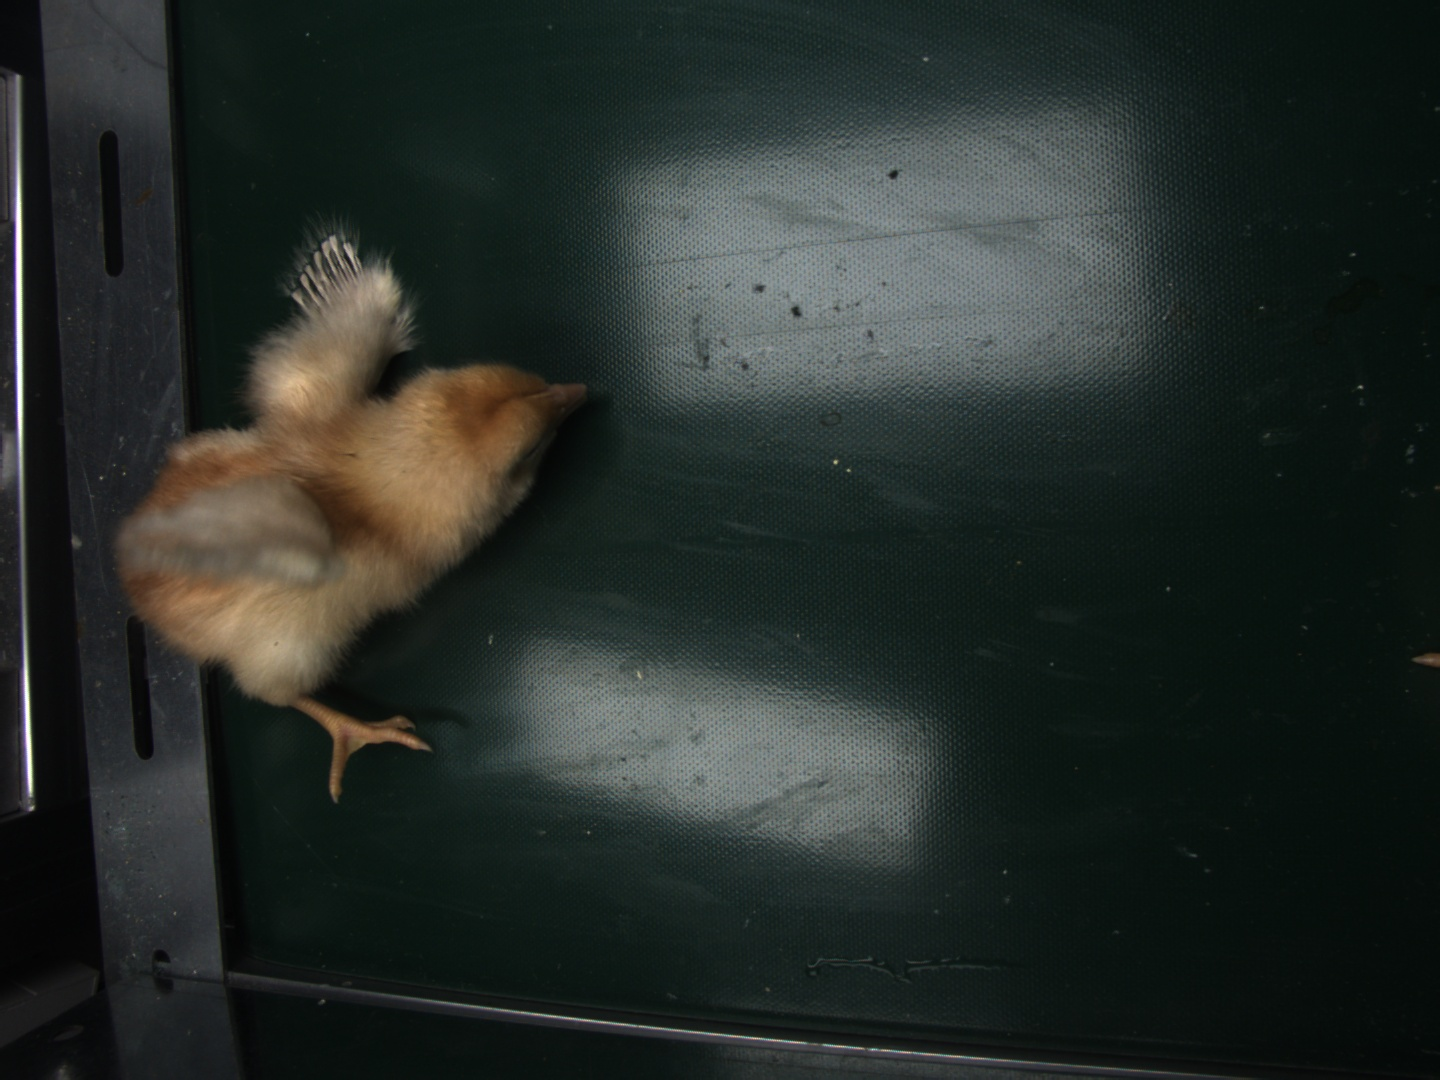female: (298, 246, 363, 314)
